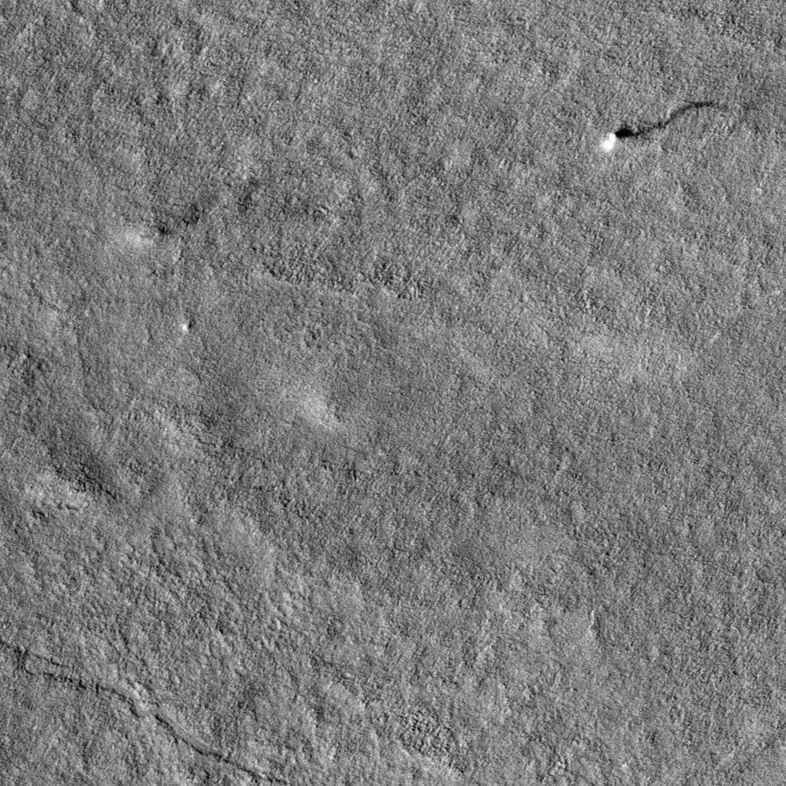dust_devil: (598, 95, 715, 156)
